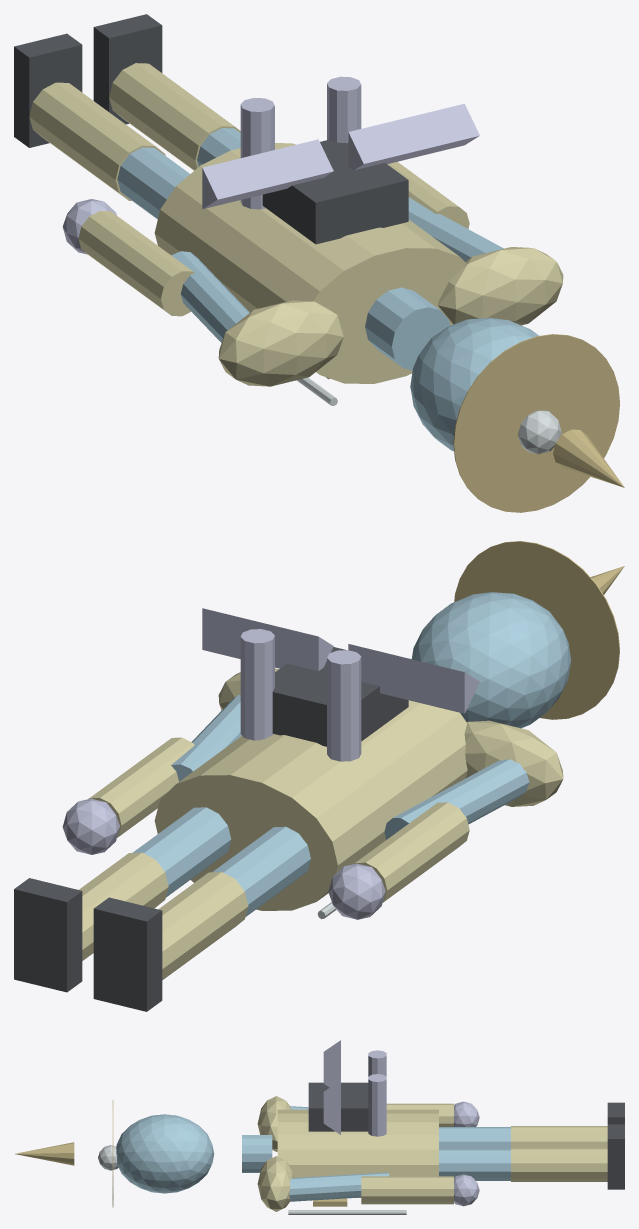
File: SWN-050_marshal_veyra_solis.glb
3 renders of one model, top to bottom at view 1: azimuth 30°, elevation 25°; view 2: azimuth 150°, elevation 25°; view 3: azimuth 270°, elevation 25°, orthographic. The views are drawn at different scales.
Parts seen in each view (by area): view 1: body_spine, rank_halo_ring, back_thruster_pack, shoulder_plate_-1, head, shoulder_plate_1, greave_-1, greave_1, forearm_gauntlet_-1, zero_g_winglet_-1, zero_g_winglet_1, boot_-1 (+12 smaller); view 2: body_spine, head, rank_halo_ring, boot_-1, boot_1, greave_-1, back_thruster_pack, forearm_gauntlet_-1, shoulder_plate_-1, zero_g_winglet_-1, thigh_1, thigh_-1 (+9 smaller); view 3: body_spine, head, greave_1, forearm_gauntlet_1, back_thruster_pack, thigh_1, greave_-1, upper_arm_1, thigh_-1, shoulder_plate_1, boot_1, aether_thruster_1 (+13 smaller).
Boxes of the visible parts, box(x1,y1,x2,y2) form: body_spine: box(154, 143, 466, 383); rank_halo_ring: box(453, 334, 619, 512); back_thruster_pack: box(262, 139, 408, 244); shoulder_plate_-1: box(218, 300, 344, 386); head: box(410, 317, 538, 451); shoulder_plate_1: box(438, 247, 563, 325); greave_-1: box(29, 82, 165, 200); greave_1: box(109, 63, 240, 170); forearm_gauntlet_-1: box(78, 210, 194, 316); zero_g_winglet_-1: box(202, 139, 333, 209); zero_g_winglet_1: box(348, 103, 479, 170); boot_-1: box(14, 33, 82, 147); body_spine: box(154, 700, 467, 910); head: box(411, 592, 571, 728); rank_halo_ring: box(454, 541, 619, 719); boot_-1: box(93, 897, 162, 1011); boot_1: box(14, 878, 82, 992); greave_-1: box(158, 872, 248, 979); back_thruster_pack: box(272, 647, 408, 746); forearm_gauntlet_-1: box(354, 802, 469, 902); shoulder_plate_-1: box(464, 720, 563, 806); zero_g_winglet_-1: box(348, 644, 479, 713); thigh_1: box(132, 807, 231, 897); thigh_-1: box(212, 826, 310, 916); body_spine: box(277, 1109, 438, 1197); head: box(116, 1114, 214, 1193); greave_1: box(511, 1147, 607, 1181); forearm_gauntlet_1: box(361, 1176, 453, 1204); back_thruster_pack: box(308, 1082, 368, 1131); thigh_1: box(439, 1148, 510, 1180); greave_-1: box(511, 1126, 607, 1147); upper_arm_1: box(289, 1172, 389, 1201); thigh_-1: box(439, 1127, 510, 1148); shoulder_plate_1: box(257, 1156, 293, 1211); boot_1: box(607, 1124, 624, 1189); aether_thruster_1: box(368, 1074, 386, 1136).
Bounding box in the file's own units: 1.04 × 0.7 × 2.84.
